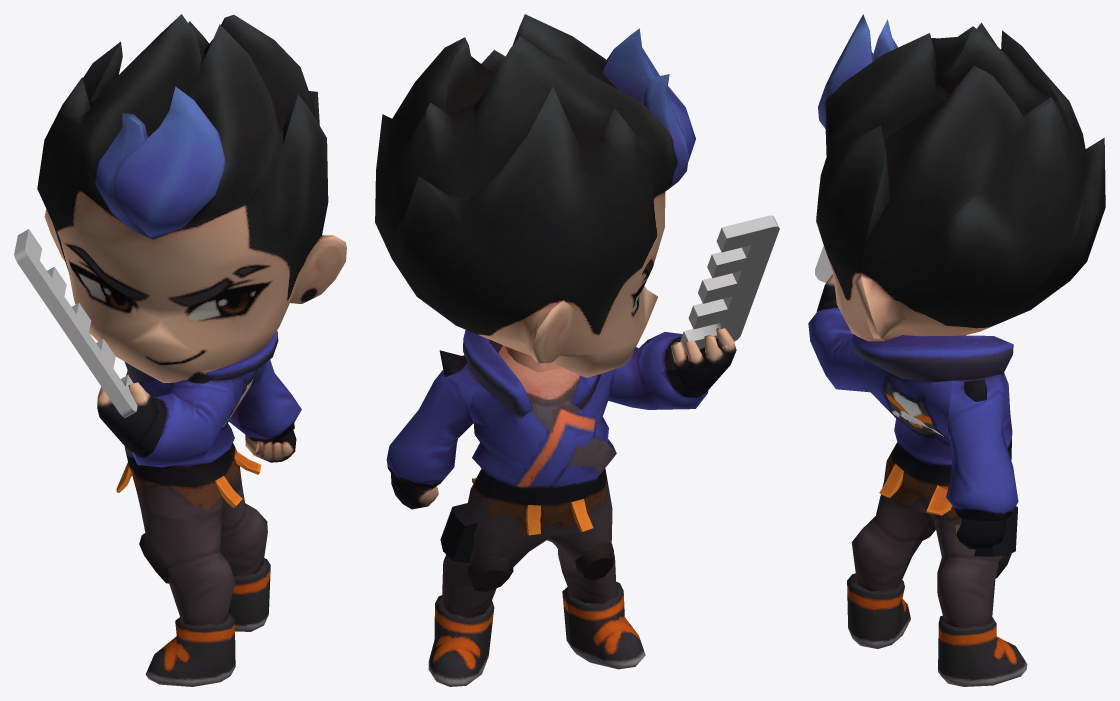
File: yoru.glb
The picture shows the model from 3 angles, left to right: view 1: azimuth 30°, elevation 25°; view 2: azimuth 150°, elevation 25°; view 3: azimuth 270°, elevation 25°; orthographic projection. The views are drawn at different scales.
Visible parts, largest first — view 1: Object_9; view 2: Object_9; view 3: Object_9.
Part boxes in pixels (x1=…): Object_9: x1=14, y1=14, x2=346, y2=686; Object_9: x1=375, y1=14, x2=779, y2=686; Object_9: x1=808, y1=14, x2=1105, y2=686.
Size of the model in its own units: 0.0235 by 0.041 by 0.0176.
Materials: 1 (1 with a texture image).
